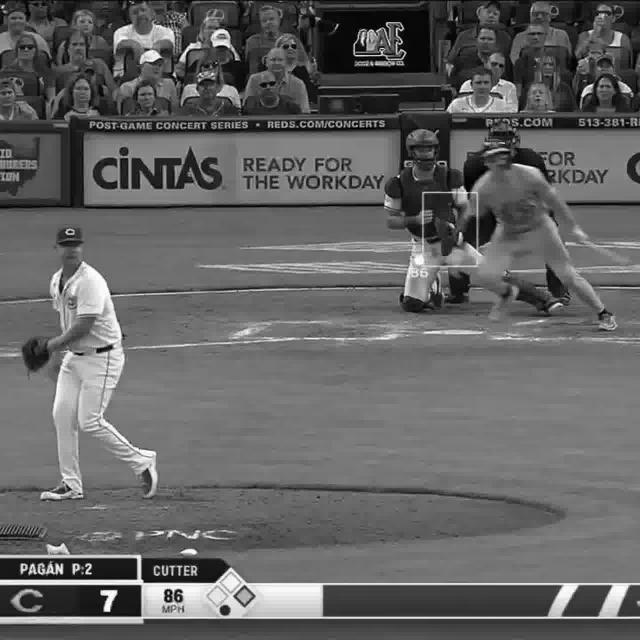base: (422, 328, 485, 337)
baseball_glove: (427, 218, 467, 258), (17, 340, 58, 374)
bat: (580, 240, 640, 286)
shoe: (133, 451, 163, 499), (487, 286, 522, 321), (43, 481, 91, 504), (594, 310, 620, 331)
